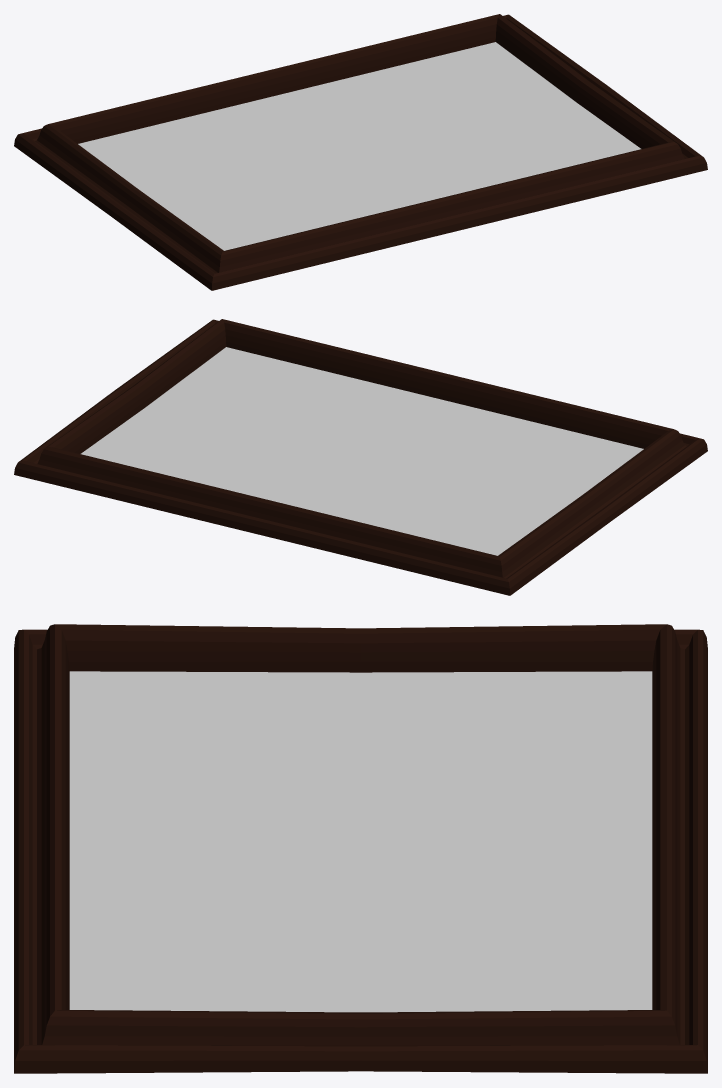
Rendered from Rahmen.fbx.
3 renders of one model, top to bottom at view 1: azimuth 30°, elevation 25°; view 2: azimuth 150°, elevation 25°; view 3: azimuth 270°, elevation 25°, orthographic. The views are drawn at different scales.
Visible parts, largest first — view 1: Plane; view 2: Plane; view 3: Plane.
Part boxes in pixels (x1,y1,x2,y2): Plane: (14,14,707,290); Plane: (14,319,707,595); Plane: (14,624,707,1073).
Bounding box in the file's own units: 40.32 × 1.93 × 27.68.
